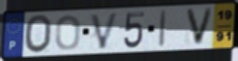5: (122, 10, 147, 49)
I: (157, 9, 168, 48)
O: (24, 13, 54, 55), (54, 14, 82, 52)
V: (89, 11, 121, 51), (184, 7, 215, 47)
